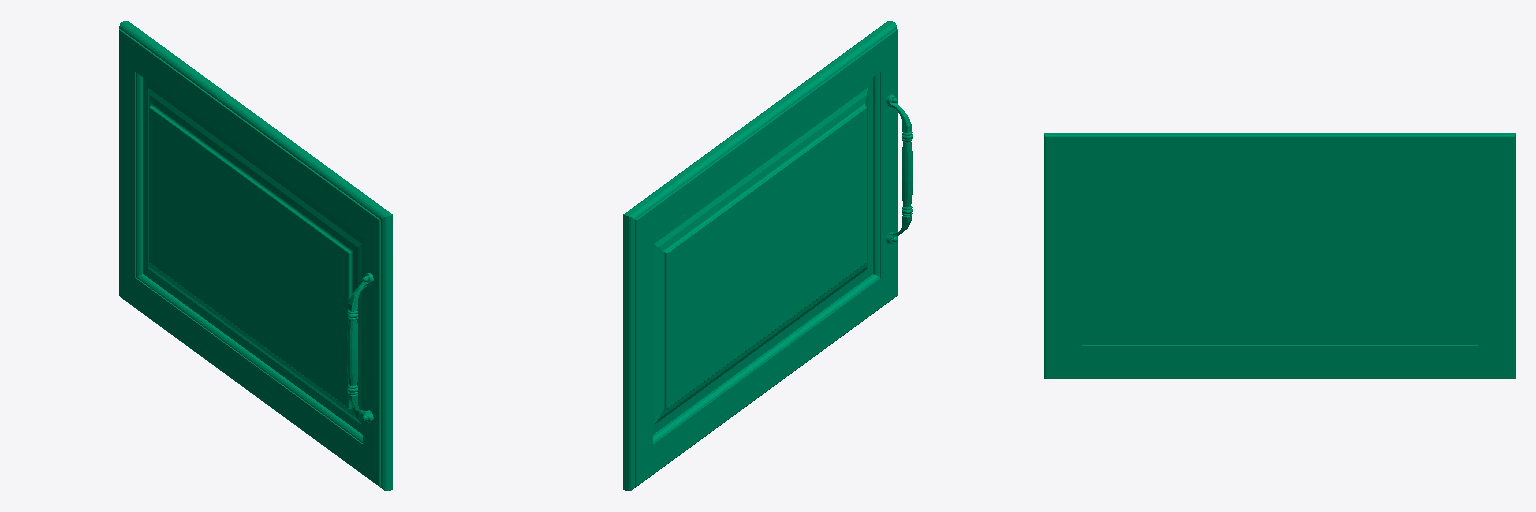
robot.urdf — partnet_147eb60e7a6cadde4da5feafe6f1c8fc:
<?xml version='1.0' encoding='us-ascii'?>
<robot name="partnet_147eb60e7a6cadde4da5feafe6f1c8fc">
	<link name="base" />
	<link name="link_0">
		</link>
	<joint name="joint_0" type="fixed">
		<origin rpy="1.570796326794897 0 -1.570796326794897" xyz="0.0 0.0 0.0" />
		<child link="link_0" />
		<parent link="base" />
	</joint>
	<link name="link_1">
		<visual name="handle-5">
			<origin xyz="0.44245608949295856 0.4468142912629898 -0.2060082441193627" />
			<geometry>
				<mesh filename="textured_objs/original-41.obj" scale="0.7 0.7 0.7" />
			</geometry>
		</visual>
		<visual name="handle-5">
			<origin xyz="0.44245608949295856 0.4468142912629898 -0.2060082441193627" />
			<geometry>
				<mesh filename="textured_objs/original-37.obj" scale="0.7 0.7 0.7" />
			</geometry>
		</visual>
		<visual name="handle-5">
			<origin xyz="0.44245608949295856 0.4468142912629898 -0.2060082441193627" />
			<geometry>
				<mesh filename="textured_objs/original-40.obj" scale="0.7 0.7 0.7" />
			</geometry>
		</visual>
		<visual name="cabinet_door_surface-6">
			<origin xyz="0.44245608949295856 0.4468142912629898 -0.2060082441193627" />
			<geometry>
				<mesh filename="textured_objs/original-30.obj" scale="0.7 0.7 0.7" />
			</geometry>
		</visual>
		<visual name="cabinet_door_surface-6">
			<origin xyz="0.44245608949295856 0.4468142912629898 -0.2060082441193627" />
			<geometry>
				<mesh filename="textured_objs/original-33.obj" scale="0.7 0.7 0.7" />
			</geometry>
		</visual>
		<visual name="cabinet_door_surface-6">
			<origin xyz="0.44245608949295856 0.4468142912629898 -0.2060082441193627" />
			<geometry>
				<mesh filename="textured_objs/original-24.obj" scale="0.7 0.7 0.7" />
			</geometry>
		</visual>
		<visual name="cabinet_door_surface-6">
			<origin xyz="0.44245608949295856 0.4468142912629898 -0.2060082441193627" />
			<geometry>
				<mesh filename="textured_objs/original-27.obj" scale="0.7 0.7 0.7" />
			</geometry>
		</visual>
		<visual name="cabinet_door_surface-6">
			<origin xyz="0.44245608949295856 0.4468142912629898 -0.2060082441193627" />
			<geometry>
				<mesh filename="textured_objs/original-29.obj" scale="0.7 0.7 0.7" />
			</geometry>
		</visual>
		<visual name="cabinet_door_surface-6">
			<origin xyz="0.44245608949295856 0.4468142912629898 -0.2060082441193627" />
			<geometry>
				<mesh filename="textured_objs/original-25.obj" scale="0.7 0.7 0.7" />
			</geometry>
		</visual>
		<visual name="cabinet_door_surface-6">
			<origin xyz="0.44245608949295856 0.4468142912629898 -0.2060082441193627" />
			<geometry>
				<mesh filename="textured_objs/original-28.obj" scale="0.7 0.7 0.7" />
			</geometry>
		</visual>
		<visual name="cabinet_door_surface-6">
			<origin xyz="0.44245608949295856 0.4468142912629898 -0.2060082441193627" />
			<geometry>
				<mesh filename="textured_objs/original-26.obj" scale="0.7 0.7 0.7" />
			</geometry>
		</visual>
		<visual name="cabinet_door_surface-6">
			<origin xyz="0.44245608949295856 0.4468142912629898 -0.2060082441193627" />
			<geometry>
				<mesh filename="textured_objs/original-23.obj" scale="0.7 0.7 0.7" />
			</geometry>
		</visual>
		<visual name="cabinet_door_surface-6">
			<origin xyz="0.44245608949295856 0.4468142912629898 -0.2060082441193627" />
			<geometry>
				<mesh filename="textured_objs/original-32.obj" scale="0.7 0.7 0.7" />
			</geometry>
		</visual>
		<visual name="other_leaf-10">
			<origin xyz="0.44245608949295856 0.4468142912629898 -0.2060082441193627" />
			<geometry>
				<mesh filename="textured_objs/original-39.obj" scale="0.7 0.7 0.7" />
			</geometry>
		</visual>
		<visual name="other_leaf-9">
			<origin xyz="0.44245608949295856 0.4468142912629898 -0.2060082441193627" />
			<geometry>
				<mesh filename="textured_objs/original-36.obj" scale="0.7 0.7 0.7" />
			</geometry>
		</visual>
		<collision>
			<origin xyz="0.44245608949295856 0.4468142912629898 -0.2060082441193627" />
			<geometry>
				<mesh filename="textured_objs/original-41.obj" scale="0.7 0.7 0.7" />
			</geometry>
		</collision>
		<collision>
			<origin xyz="0.44245608949295856 0.4468142912629898 -0.2060082441193627" />
			<geometry>
				<mesh filename="textured_objs/original-37.obj" scale="0.7 0.7 0.7" />
			</geometry>
		</collision>
		<collision>
			<origin xyz="0.44245608949295856 0.4468142912629898 -0.2060082441193627" />
			<geometry>
				<mesh filename="textured_objs/original-40.obj" scale="0.7 0.7 0.7" />
			</geometry>
		</collision>
		<collision>
			<origin xyz="0.44245608949295856 0.4468142912629898 -0.2060082441193627" />
			<geometry>
				<mesh filename="textured_objs/original-30.obj" scale="0.7 0.7 0.7" />
			</geometry>
		</collision>
		<collision>
			<origin xyz="0.44245608949295856 0.4468142912629898 -0.2060082441193627" />
			<geometry>
				<mesh filename="textured_objs/original-33.obj" scale="0.7 0.7 0.7" />
			</geometry>
		</collision>
		<collision>
			<origin xyz="0.44245608949295856 0.4468142912629898 -0.2060082441193627" />
			<geometry>
				<mesh filename="textured_objs/original-24.obj" scale="0.7 0.7 0.7" />
			</geometry>
		</collision>
		<collision>
			<origin xyz="0.44245608949295856 0.4468142912629898 -0.2060082441193627" />
			<geometry>
				<mesh filename="textured_objs/original-27.obj" scale="0.7 0.7 0.7" />
			</geometry>
		</collision>
		<collision>
			<origin xyz="0.44245608949295856 0.4468142912629898 -0.2060082441193627" />
			<geometry>
				<mesh filename="textured_objs/original-29.obj" scale="0.7 0.7 0.7" />
			</geometry>
		</collision>
		<collision>
			<origin xyz="0.44245608949295856 0.4468142912629898 -0.2060082441193627" />
			<geometry>
				<mesh filename="textured_objs/original-25.obj" scale="0.7 0.7 0.7" />
			</geometry>
		</collision>
		<collision>
			<origin xyz="0.44245608949295856 0.4468142912629898 -0.2060082441193627" />
			<geometry>
				<mesh filename="textured_objs/original-28.obj" scale="0.7 0.7 0.7" />
			</geometry>
		</collision>
		<collision>
			<origin xyz="0.44245608949295856 0.4468142912629898 -0.2060082441193627" />
			<geometry>
				<mesh filename="textured_objs/original-26.obj" scale="0.7 0.7 0.7" />
			</geometry>
		</collision>
		<collision>
			<origin xyz="0.44245608949295856 0.4468142912629898 -0.2060082441193627" />
			<geometry>
				<mesh filename="textured_objs/original-23.obj" scale="0.7 0.7 0.7" />
			</geometry>
		</collision>
		<collision>
			<origin xyz="0.44245608949295856 0.4468142912629898 -0.2060082441193627" />
			<geometry>
				<mesh filename="textured_objs/original-32.obj" scale="0.7 0.7 0.7" />
			</geometry>
		</collision>
		<collision>
			<origin xyz="0.44245608949295856 0.4468142912629898 -0.2060082441193627" />
			<geometry>
				<mesh filename="textured_objs/original-39.obj" scale="0.7 0.7 0.7" />
			</geometry>
		</collision>
		<collision>
			<origin xyz="0.44245608949295856 0.4468142912629898 -0.2060082441193627" />
			<geometry>
				<mesh filename="textured_objs/original-36.obj" scale="0.7 0.7 0.7" />
			</geometry>
		</collision>
	</link>
	<joint name="joint_1" type="revolute">
		<origin xyz="-0.44245608949295856 -0.4468142912629898 0.2060082441193627" />
		<axis xyz="0 -0.9999997302451396 -0.0007345132049129426" />
		<child link="link_1" />
		<parent link="link_0" />
		<limit lower="0.0" upper="1.5707963267948966" />
	</joint>
</robot>

--- What the picture shows (computed from the rendered views, not written in the file) ---
3 views of the same robot in one strip: view 1: azimuth 30°, elevation 25°; view 2: azimuth 150°, elevation 25°; view 3: azimuth 270°, elevation 25° (orthographic).
Robot: partnet_147eb60e7a6cadde4da5feafe6f1c8fc — 3 links, 2 joints (1 revolute, 1 fixed); root link base; default pose: every joint at zero.
Links seen in each view (by area): view 1: link_1; view 2: link_1; view 3: link_1.
Link boxes in pixels (x1,y1,x2,y2): link_1: (119, 21, 392, 490); link_1: (623, 21, 912, 490); link_1: (1044, 133, 1515, 378).
Bounding box of the posed robot: 0.0707 × 0.9184 × 0.5248 m (x, y, z).
15 mesh visuals loaded from 15 distinct referenced files (15 OBJ).